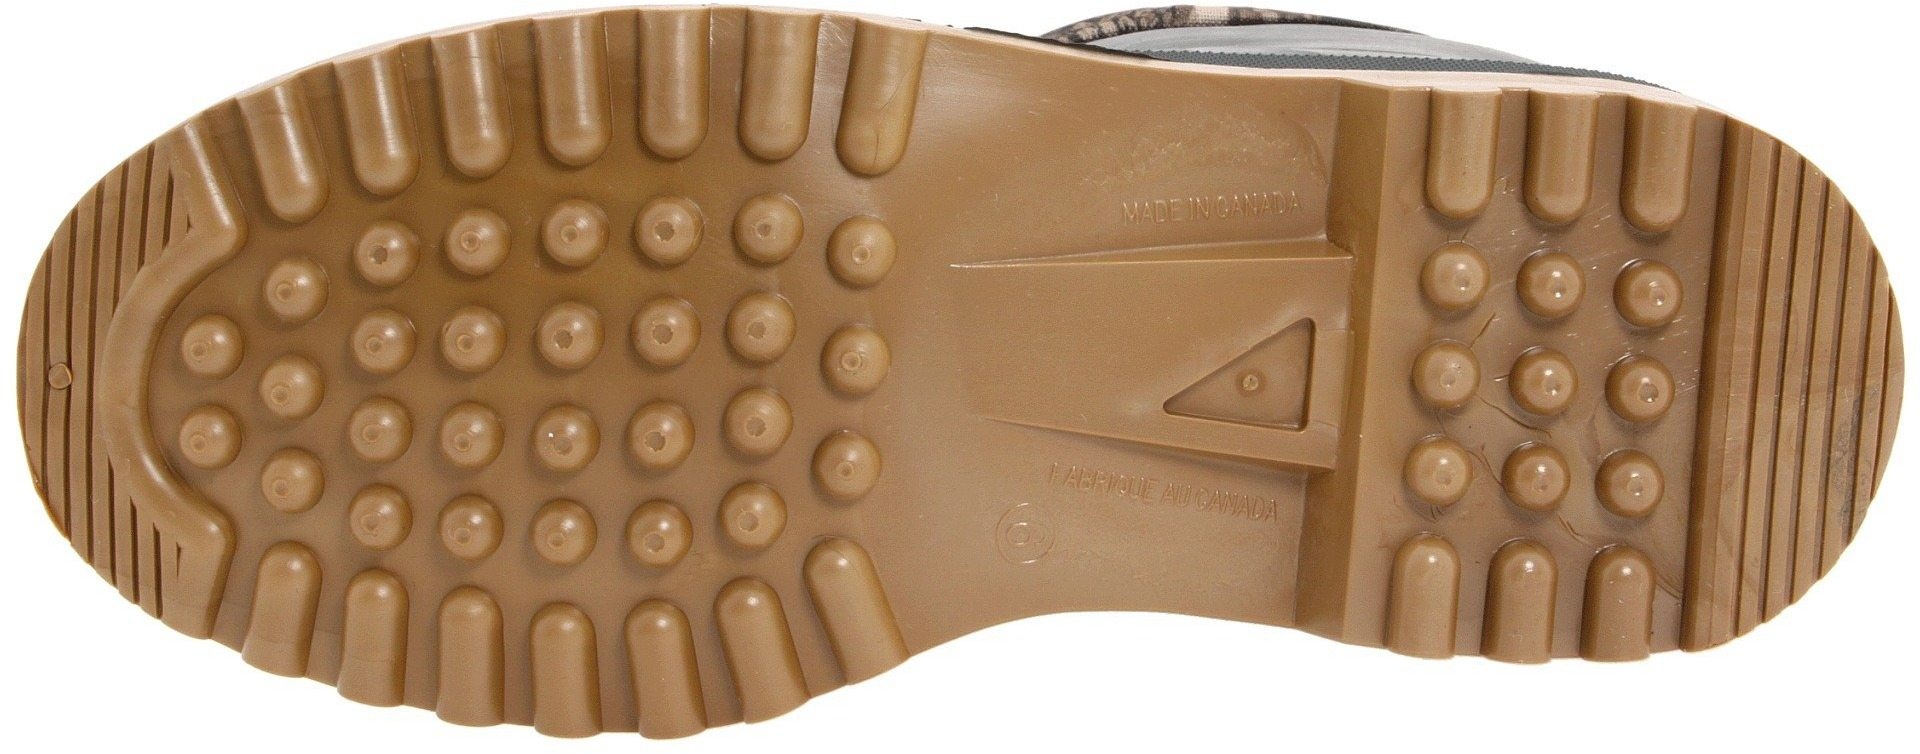circle: (555, 200, 890, 539), (269, 246, 577, 541), (1427, 242, 1690, 529)
quad: (213, 13, 939, 233)
text: (942, 470, 1071, 575)
triangle: (1140, 308, 1336, 428)
